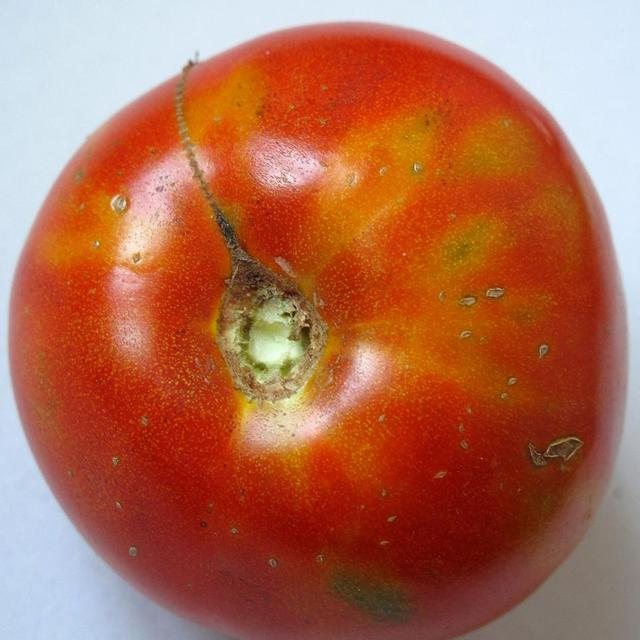Spotted wilt Virus Fruit: (73, 18, 199, 60)
